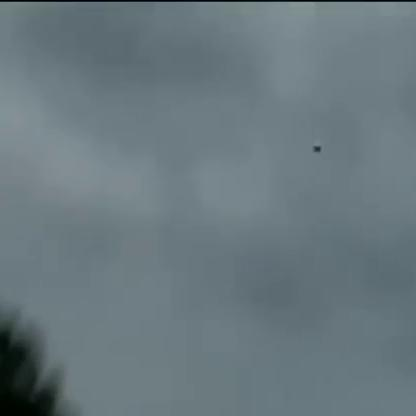golfball: (311, 139, 318, 150)
